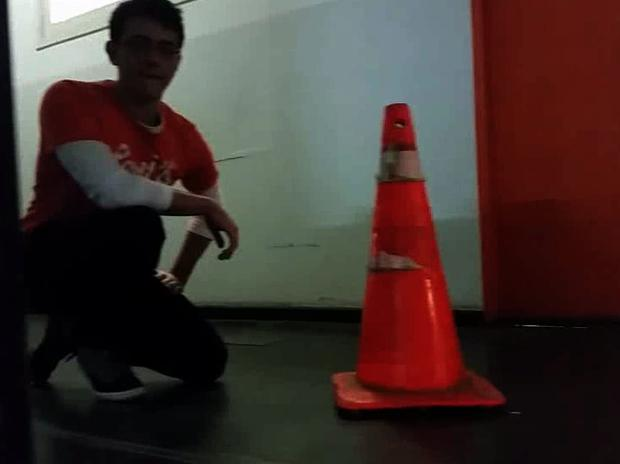0 cone: (329, 101, 506, 411)
